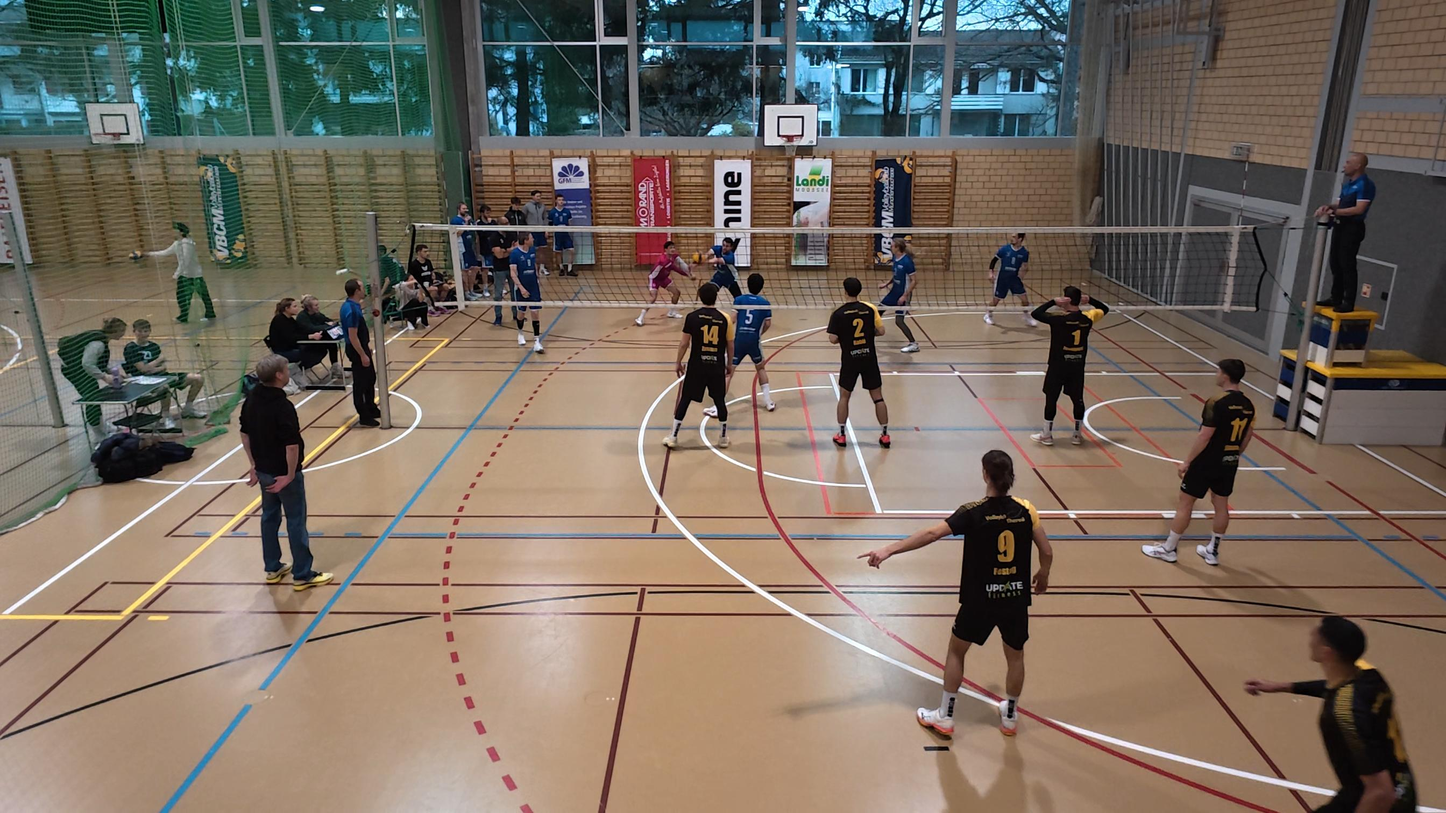ricezione: (696, 232, 743, 306)
